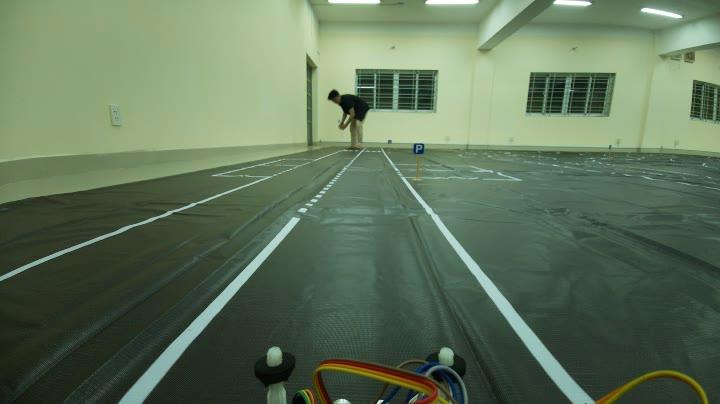parking: (410, 138, 427, 160)
